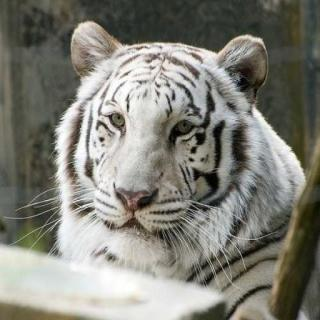Tiger: (48, 18, 302, 288)
